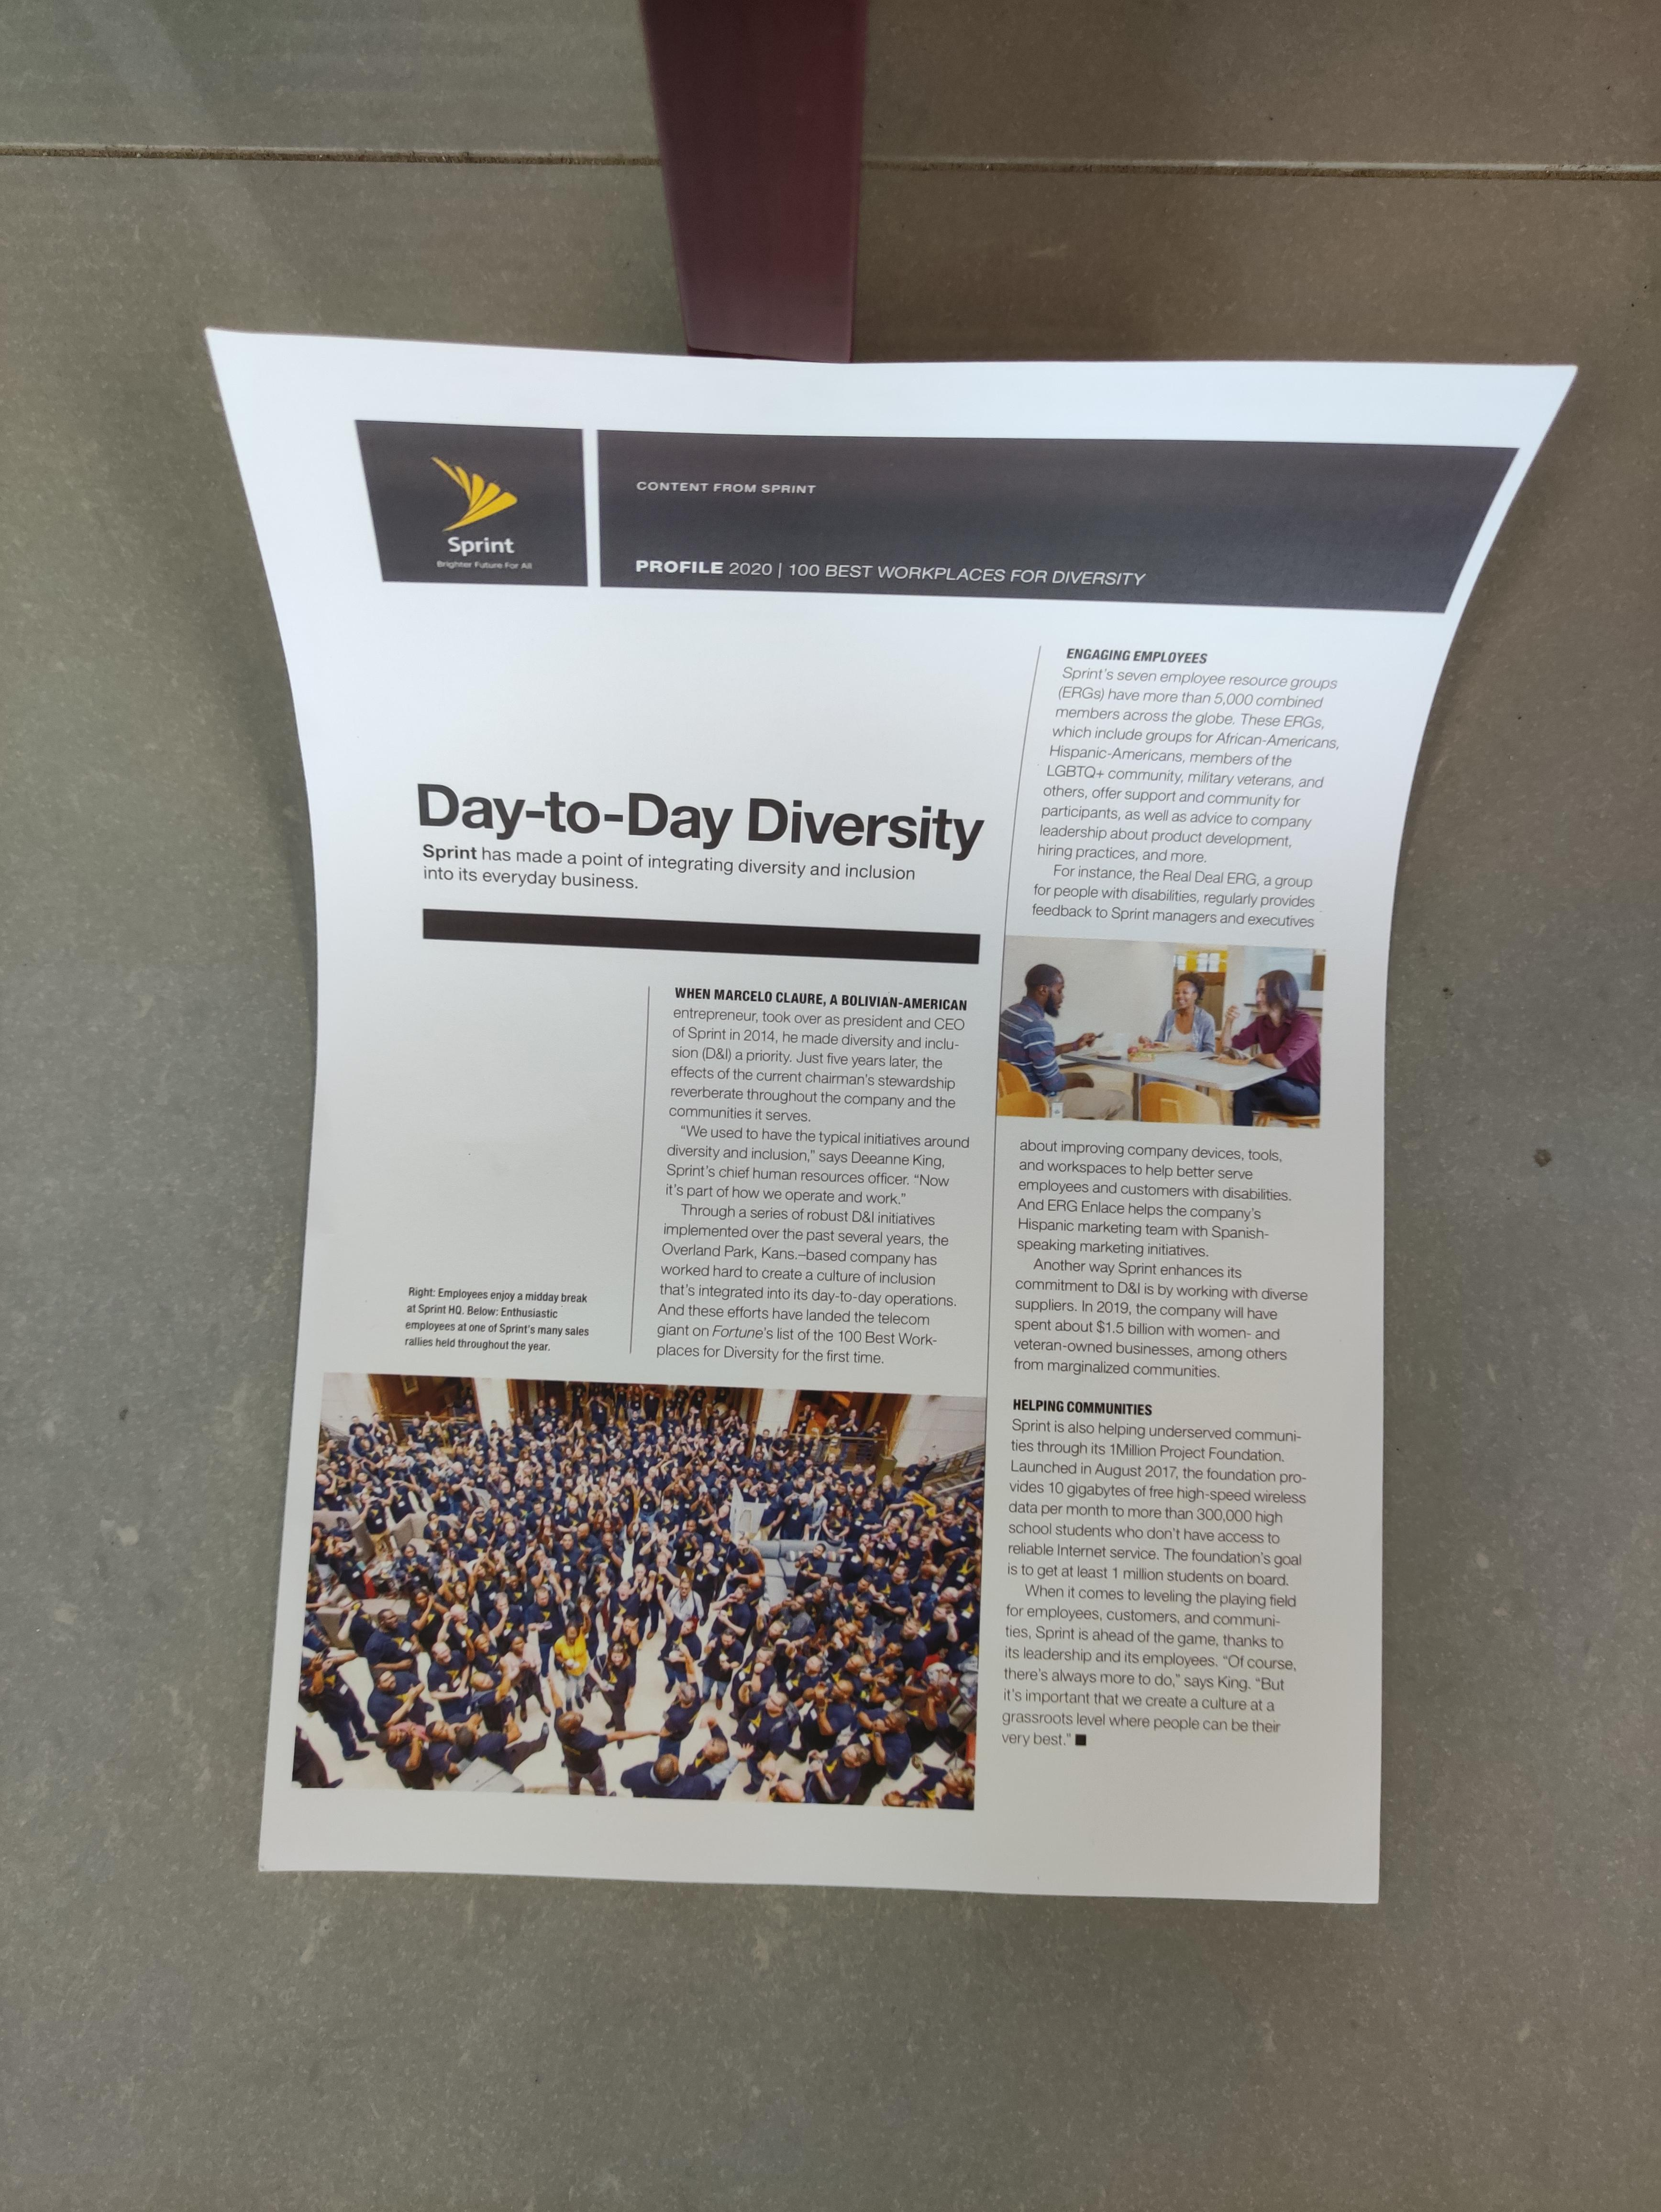paper: (82, 154, 1661, 2050)
